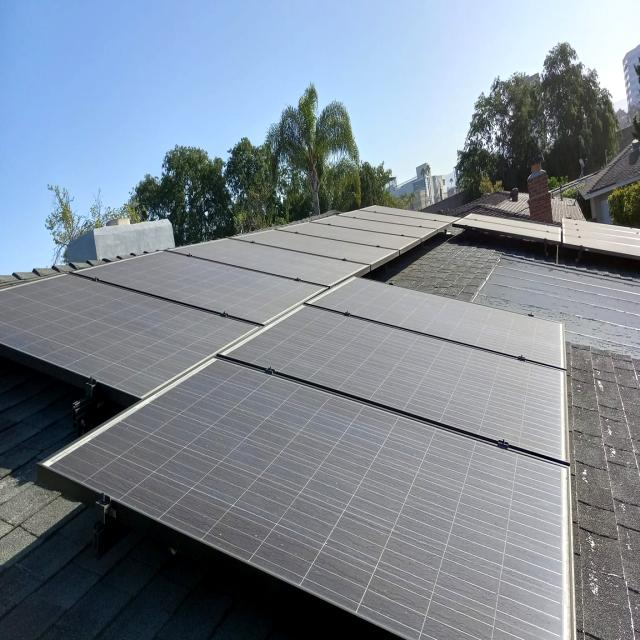dust: (208, 344, 372, 543), (385, 436, 533, 628), (399, 335, 552, 421), (32, 284, 156, 378), (162, 252, 276, 308), (280, 224, 393, 254), (333, 280, 368, 342)
